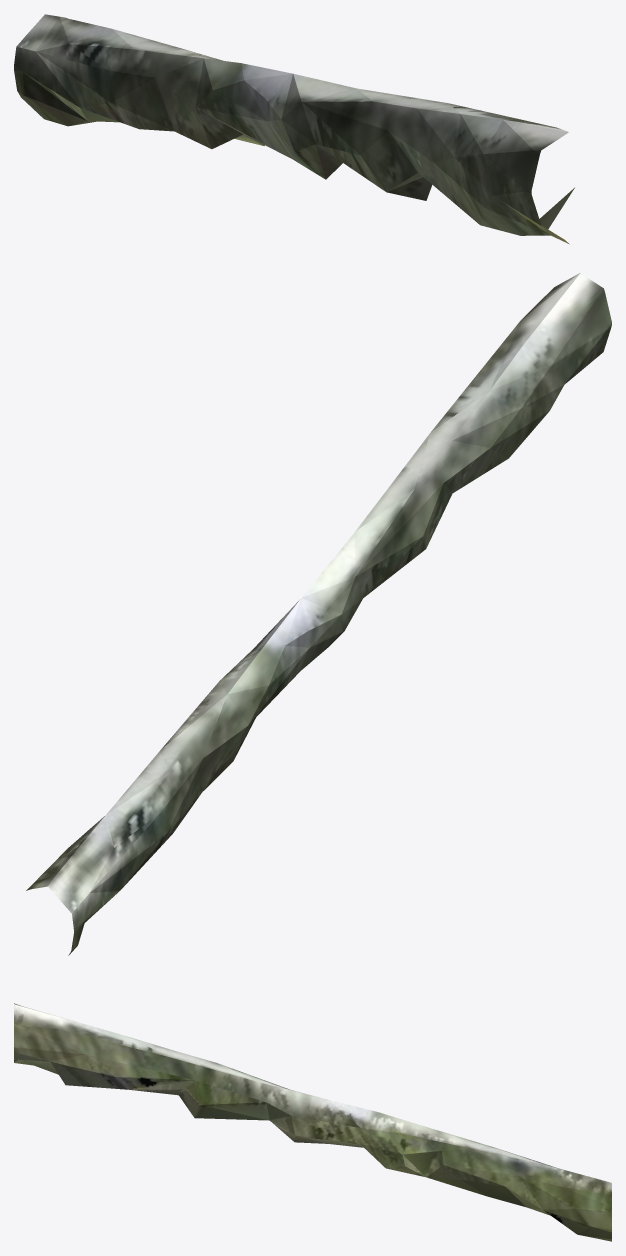
3 views of the same model, one above another, from view 1: azimuth 30°, elevation 25°; view 2: azimuth 150°, elevation 25°; view 3: azimuth 270°, elevation 25° (orthographic). The views are drawn at different scales.
Size of the model in its own units: 0.3884 by 1.19 by 2.95.
Materials: 1 (1 with a texture image).
